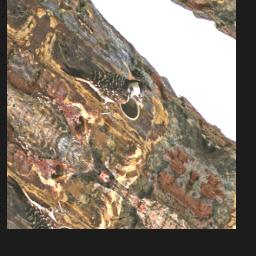Woodpecker: (56, 32, 151, 136)
